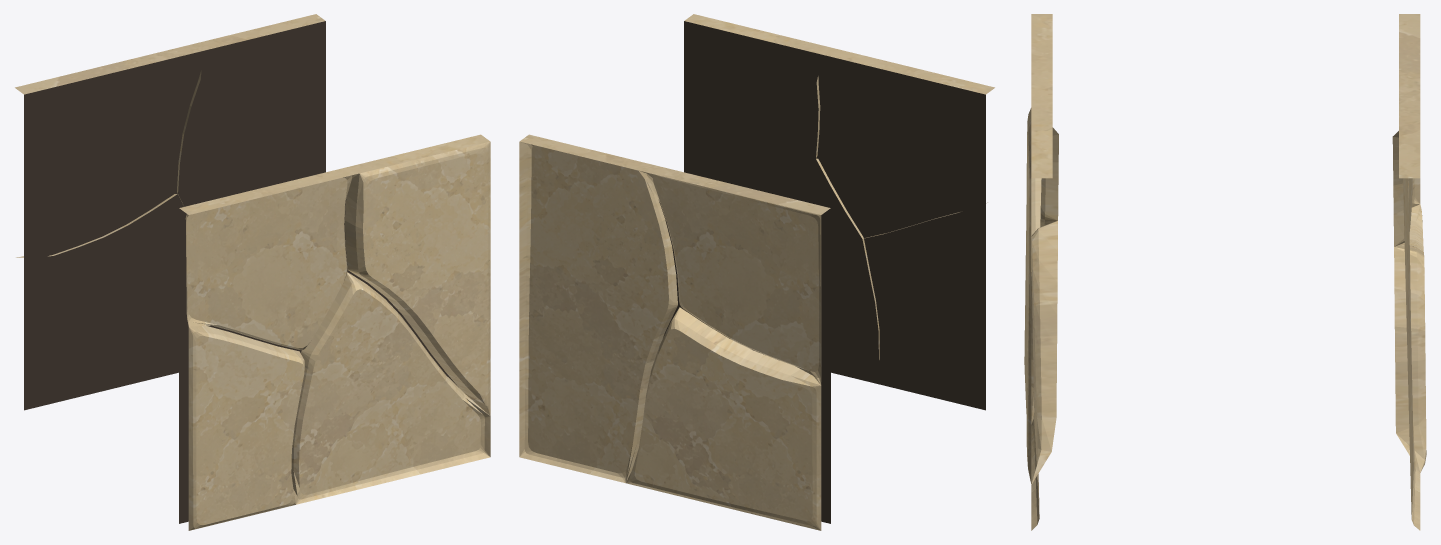
The model's file is ground_square_strip_07.glb.
The picture shows the model from 3 angles, left to right: view 1: azimuth 30°, elevation 25°; view 2: azimuth 150°, elevation 25°; view 3: azimuth 270°, elevation 25°; orthographic projection. The views are drawn at different scales.
Parts seen in each view (by area): view 1: GroundSquareStrip07_Body; view 2: GroundSquareStrip07_Body; view 3: GroundSquareStrip07_Body.
Part boxes in pixels (x1=…): GroundSquareStrip07_Body: x1=15, y1=14, x2=490, y2=530; GroundSquareStrip07_Body: x1=519, y1=14, x2=994, y2=530; GroundSquareStrip07_Body: x1=1024, y1=14, x2=1426, y2=530.
Size of the model in its own units: 1 by 1 by 1.03.
9 materials, 8 textured.
